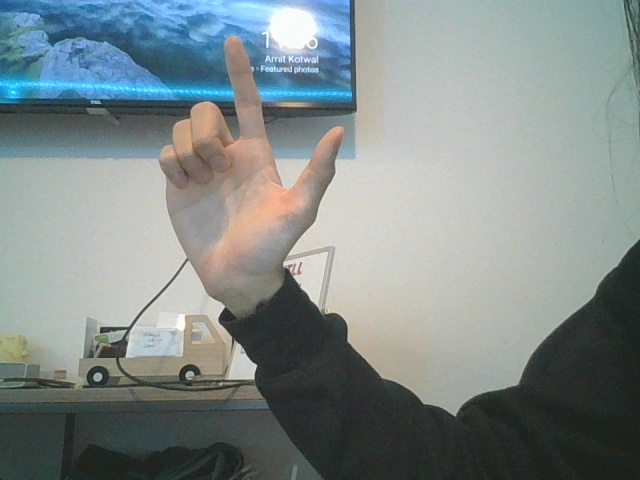l: (159, 35, 345, 305)
